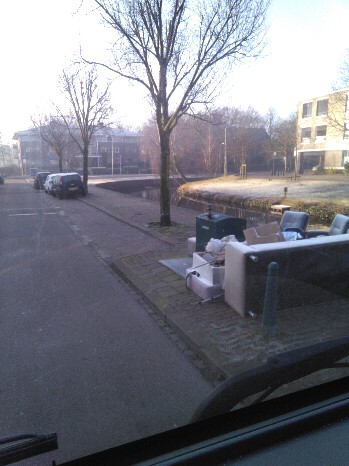Container: (199, 208, 239, 242)
Rest: (198, 237, 349, 299), (275, 209, 349, 239)
Voertuig: (40, 172, 90, 208)
